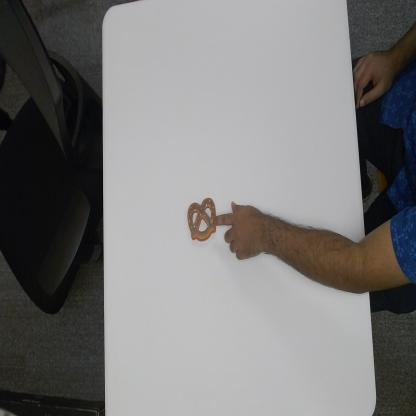Arm: (271, 209, 416, 299)
Hand: (216, 197, 270, 263)
Pretzel: (186, 192, 218, 245)
